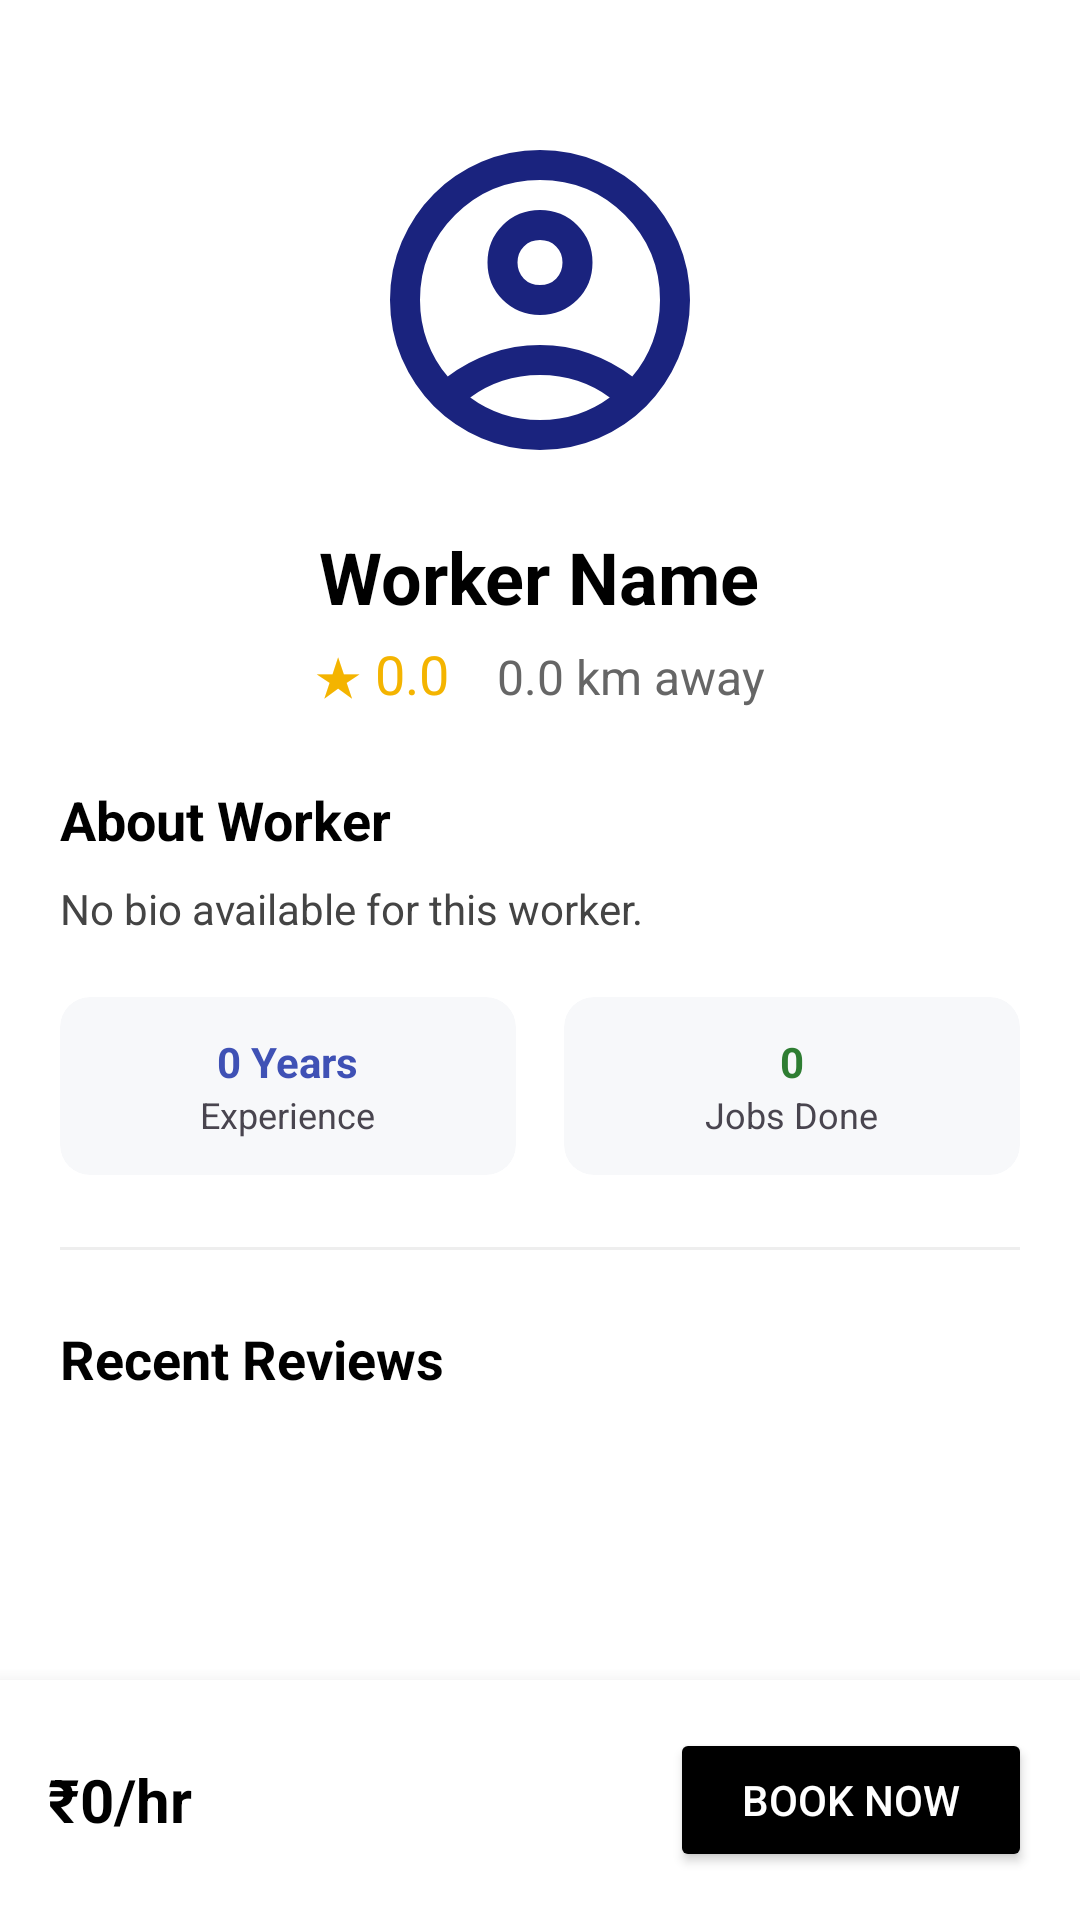

Screen size 1080×1920. Icon name, then its box in pixels as (x1, y1, x2, y2):
person: (390, 150, 690, 450)
